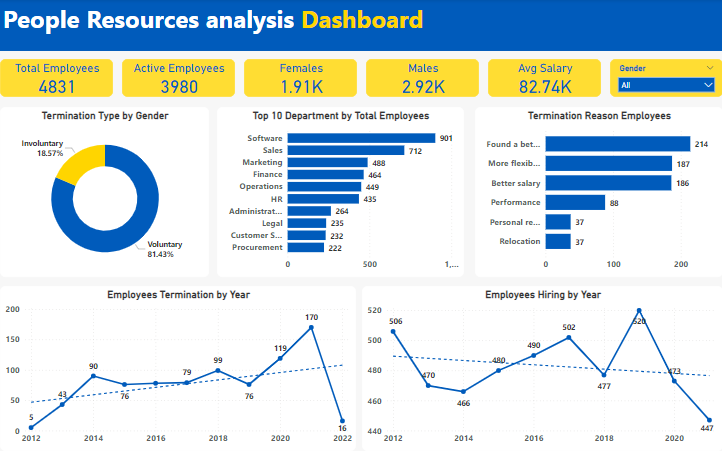

What the dashboard file says about the page in this screenshot:
{"tool":"powerbi","page":{"name":"Page 2","canvas":[1280,800],"ordinal":1},"visuals":[{"type":"donutChart","title":"Termination Type by Gender","fields":{"Category":["people_analytics_start.term_type"],"Y":["CountNonNull(people_analytics_start.gender)"]},"box":[0,191.2,369.9,300.9],"z":0},{"type":"lineChart","title":"Employees Hiring by Year","fields":{"Category":["people_analytics_start.hire_date"],"Y":["CountNonNull(people_analytics_start.employee_id)"]},"box":[640.7,508,638.9,292],"z":1000},{"type":"lineChart","title":"Employees Termination by Year","fields":{"Y":["CountNonNull(people_analytics_start.employee_id)"],"Category":["people_analytics_start.term_date"]},"box":[0,508,630.1,292],"z":2000},{"type":"clusteredBarChart","title":"Termination Reason  Employees","fields":{"Category":["people_analytics_start.term_reason"],"Y":["CountNonNull(people_analytics_start.employee_id)"]},"box":[840.7,191.2,438.9,300.9],"z":3000},{"type":"clusteredBarChart","title":"Top 10 Department by Total Employees","fields":{"Y":["CountNonNull(people_analytics_start.employee_id)"],"Category":["people_analytics_start.department"]},"box":[384.1,191.2,437.2,300.9],"z":4000},{"type":"textbox","box":[0,0,1279.6,92],"z":4001},{"type":"card","title":"Total Employees","fields":{"Values":["CountNonNull(people_analytics_start.employee_id)"]},"box":[0,106.2,200,67.3],"z":4002},{"type":"card","title":"Active Employees","fields":{"Values":["Sum(people_analytics_start.active_status)"]},"box":[215.9,106.2,200,67.3],"z":4003},{"type":"card","title":"Females","fields":{"Values":["Sum(people_analytics_start.Female Count)"]},"box":[431.9,106.2,200,67.3],"z":4004},{"type":"card","title":"Males","fields":{"Values":["Sum(people_analytics_start.Male Count)"]},"box":[647.8,106.2,200,67.3],"z":4005},{"type":"card","title":"Avg Salary","fields":{"Values":["Avg(people_analytics_start.salary)"]},"box":[863.7,106.2,200,67.3],"z":4006},{"type":"slicer","fields":{"Values":["people_analytics_start.gender"]},"box":[1079.6,106.2,200,67.3],"z":4007}]}

Visuals, with their boxes in screenshot pixels (x1, y1, x2, y2), scaled from the page's 1280x800 canvas onto the 722x451 screenshot:
"Termination Type by Gender" donutChart: 0, 108, 209, 277
"Employees Hiring by Year" lineChart: 361, 286, 721, 450
"Employees Termination by Year" lineChart: 0, 286, 355, 450
"Termination Reason  Employees" clusteredBarChart: 474, 108, 721, 277
"Top 10 Department by Total Employees" clusteredBarChart: 217, 108, 463, 277
textbox: 0, 0, 721, 52
"Total Employees" card: 0, 60, 113, 98
"Active Employees" card: 122, 60, 235, 98
"Females" card: 244, 60, 356, 98
"Males" card: 365, 60, 478, 98
"Avg Salary" card: 487, 60, 600, 98
slicer - people_analytics_start.gender: 609, 60, 721, 98
